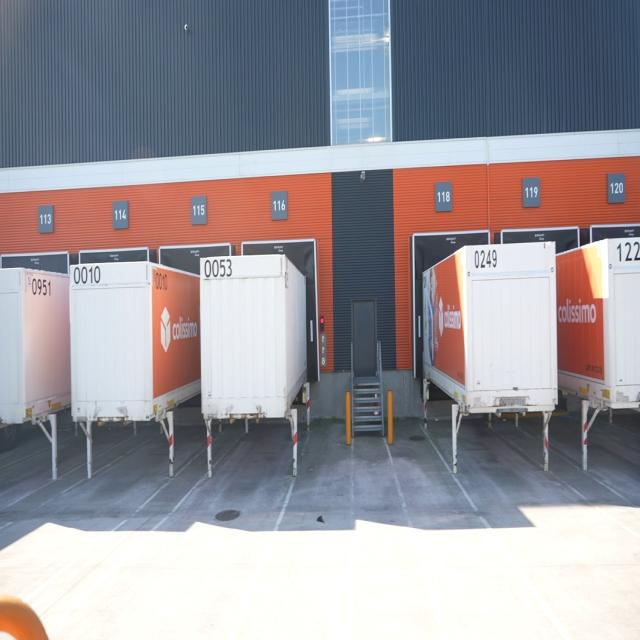Code: (200, 253, 233, 282), (71, 261, 102, 288), (471, 246, 498, 277), (28, 275, 53, 299)
